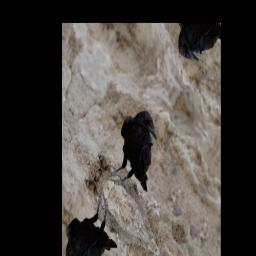Crow: (101, 97, 173, 211)
